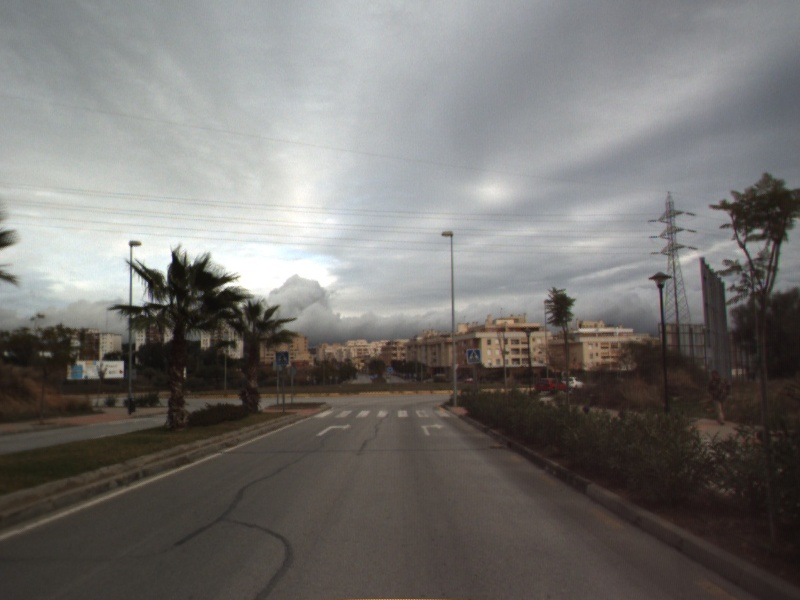RIGHT: (314, 421, 353, 438), (419, 421, 446, 437)
